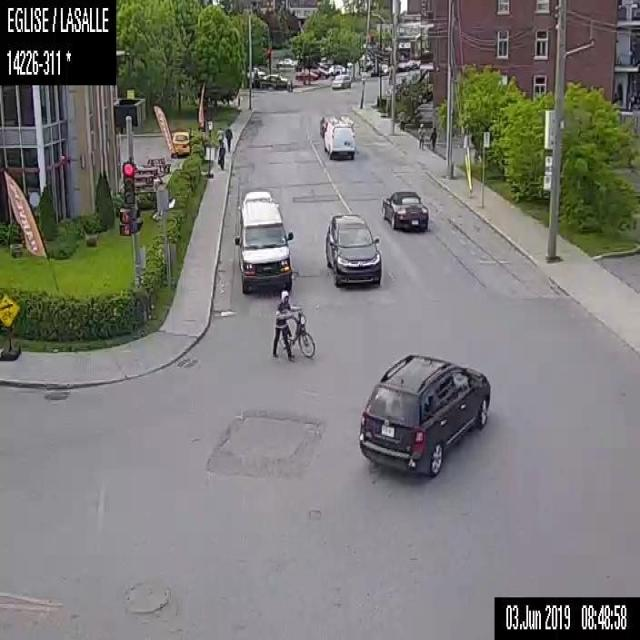pedestrian: (271, 289, 314, 363), (216, 139, 227, 169), (224, 121, 232, 152), (416, 123, 424, 148), (429, 125, 436, 151), (216, 125, 223, 146)
vehicle: (357, 351, 490, 477), (232, 188, 294, 293), (324, 212, 381, 287), (380, 189, 428, 231), (323, 118, 356, 159), (170, 130, 190, 156), (319, 115, 336, 138), (331, 71, 351, 88), (295, 67, 318, 80), (260, 71, 286, 82)
